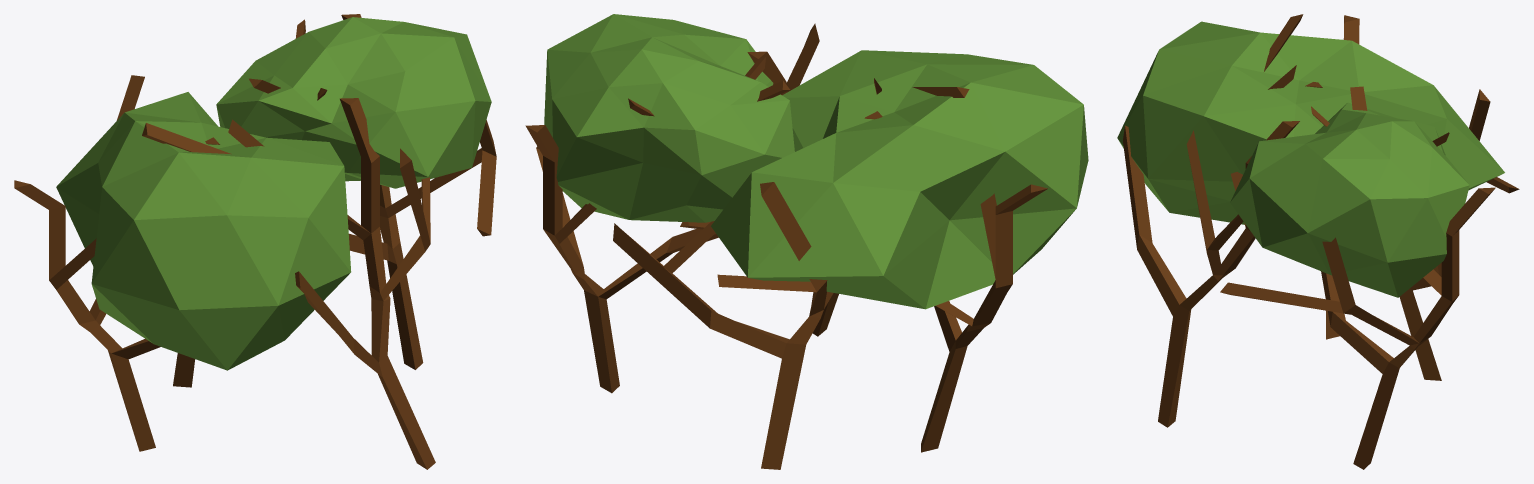
Rendered from vaike poosas surev.fbx.
3 views of the same model, side by side, from view 1: azimuth 30°, elevation 25°; view 2: azimuth 150°, elevation 25°; view 3: azimuth 270°, elevation 25° (orthographic). The views are drawn at different scales.
Visible parts, largest first — view 1: üksikpoosassurev1; view 2: üksikpoosassurev1; view 3: üksikpoosassurev1.
Boxes of the visible parts, box(x1,y1,x2,y2) form: üksikpoosassurev1: box(14, 14, 496, 469); üksikpoosassurev1: box(525, 14, 1088, 469); üksikpoosassurev1: box(1117, 14, 1519, 469).
Size of the model in its own units: 152 by 104 by 118.
